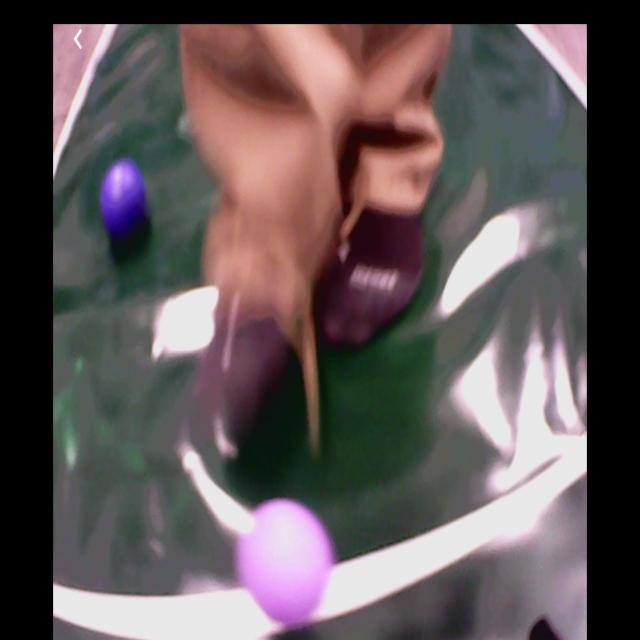ball: (240, 502, 332, 624), (100, 164, 150, 245)
